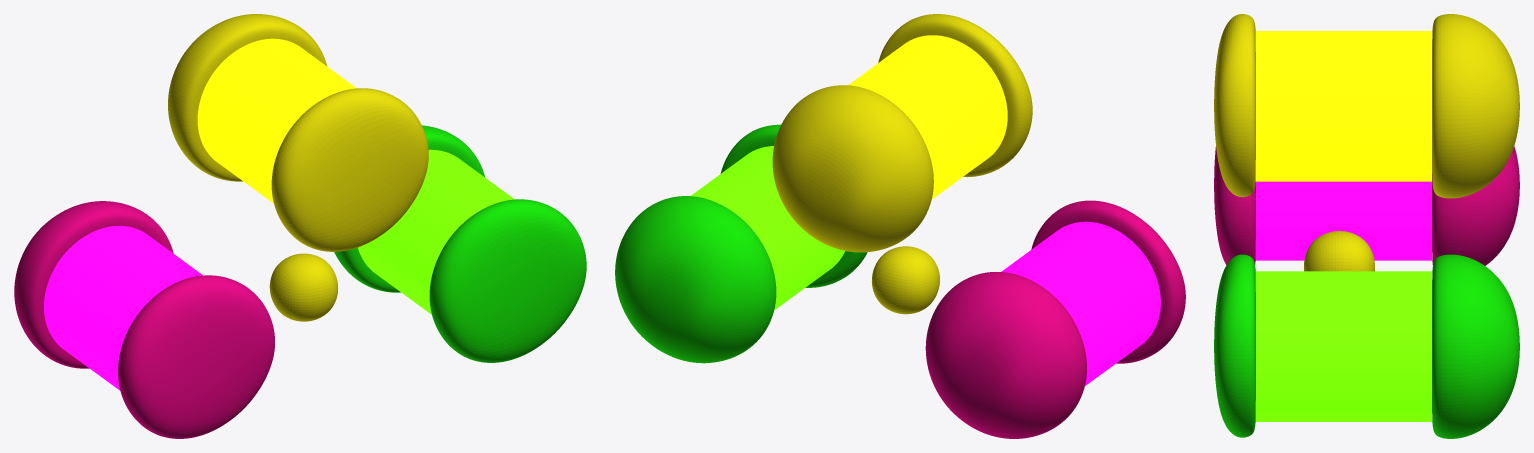
The model's file is 3_Orbes.fbx.
3 views of the same model, side by side, from view 1: azimuth 30°, elevation 25°; view 2: azimuth 150°, elevation 25°; view 3: azimuth 270°, elevation 25° (orthographic). The views are drawn at different scales.
Visible parts, largest first — view 1: Cubo; view 2: Cubo; view 3: Cubo.
Boxes of the visible parts, x1,y1,x2,y2 form: Cubo: (14, 14, 586, 438); Cubo: (615, 14, 1185, 438); Cubo: (1214, 14, 1519, 438).
Bounding box in the file's own units: 73.32 × 46.6 × 39.58.
